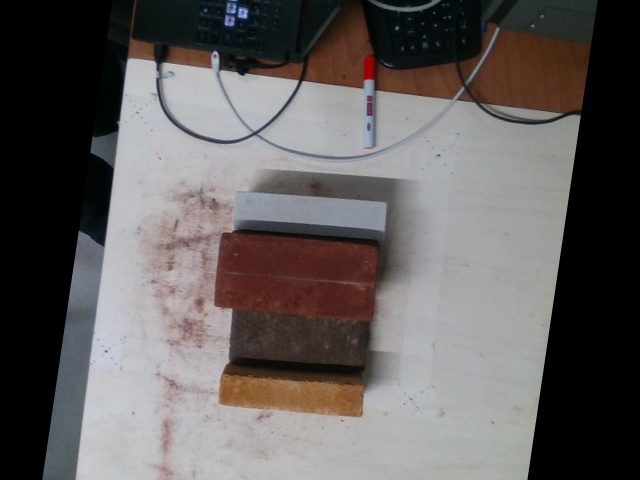brick: (213, 233, 376, 320), (228, 309, 370, 377)
brick-side: (229, 188, 386, 238), (217, 373, 366, 420)
